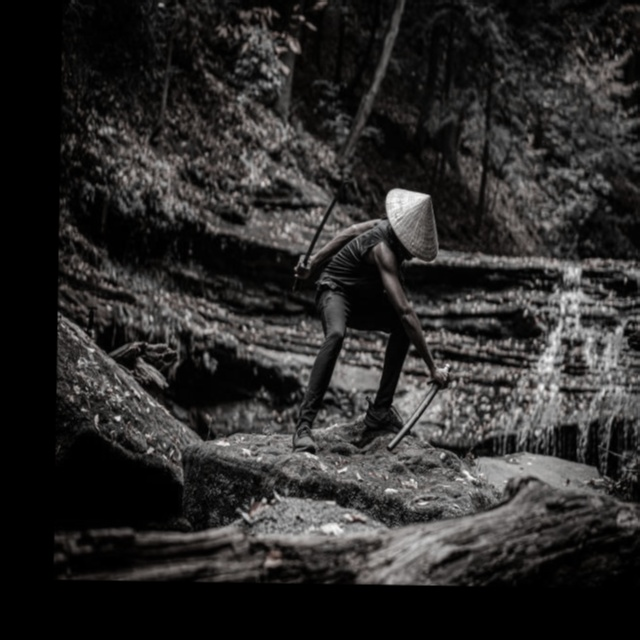Sharp-Object: (387, 361, 453, 454)
